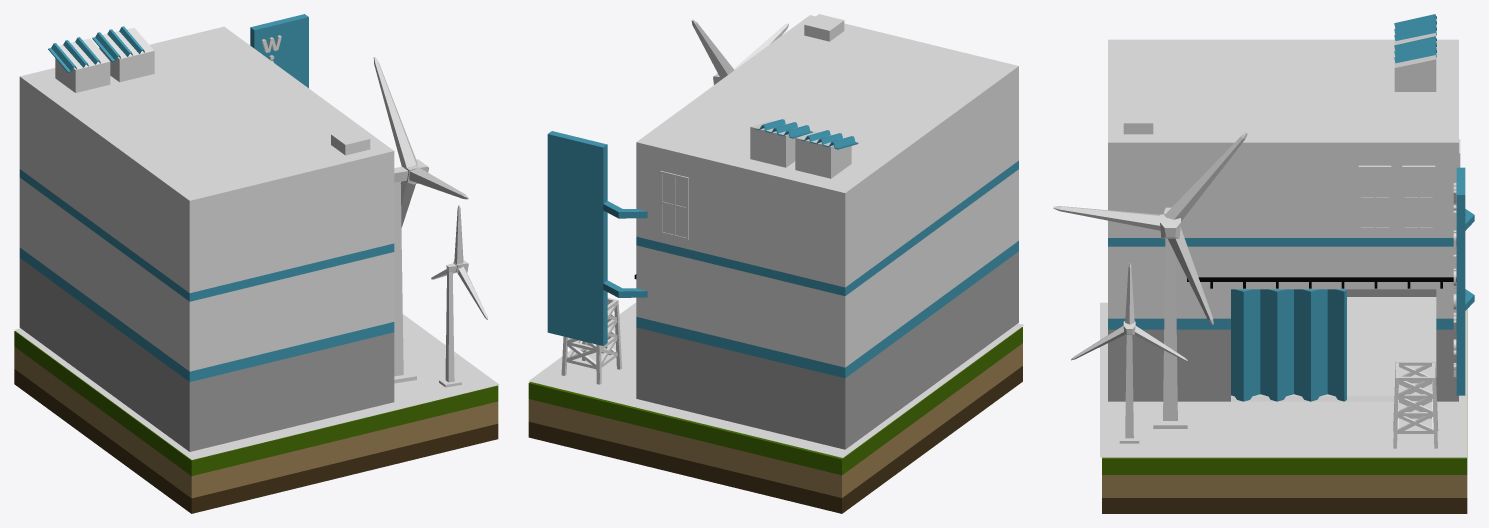
Rendered from WindPlantPrefab.fbx.
3 renders of one model, left to right at view 1: azimuth 30°, elevation 25°; view 2: azimuth 150°, elevation 25°; view 3: azimuth 270°, elevation 25°, orthographic. The views are drawn at different scales.
Parts seen in each view (by area): view 1: wind power, house ground.008, Plane.119, Cube.193, Plane.117, Cube.038, Cube.190, Circle.041, Plane.116, Cube.039, Cube.191, Cube.194 (+1 smaller); view 2: wind power, house ground.008, Cube.193, Plane.119, window asset.047, Cube.038, Cube.190, Cube.187, Cube.194, Circle.041, Cube.188, Cube.039 (+1 smaller); view 3: wind power, house ground.008, Plane.119, Plane.120, Plane.117, Cube.193, window asset.046, window asset.045, Cube.189, Cube.192, Cube.190, Circle.041 (+8 smaller).
Boxes of the visible parts, x1,y1,x2,y2 form: wind power: (19, 26, 394, 451); house ground.008: (14, 331, 498, 513); Plane.119: (14, 314, 499, 459); Cube.193: (250, 14, 308, 88); Plane.117: (394, 159, 428, 383); Cube.038: (55, 38, 110, 92); Cube.190: (99, 27, 154, 82); Circle.041: (373, 57, 417, 168); Plane.116: (439, 260, 468, 387); Cube.039: (48, 37, 100, 72); Cube.191: (92, 26, 144, 61); Cube.194: (331, 128, 370, 155); wind power: (636, 15, 1018, 449); house ground.008: (528, 327, 1022, 513); Cube.193: (547, 131, 647, 345); Plane.119: (528, 302, 1024, 457); window asset.047: (660, 171, 688, 240); Cube.038: (795, 131, 851, 178); Cube.190: (750, 120, 795, 167); Cube.187: (596, 299, 620, 384); Cube.194: (804, 14, 844, 41); Circle.041: (691, 19, 734, 79); Cube.188: (566, 338, 601, 384); Cube.039: (801, 130, 858, 149); wind power: (1108, 39, 1458, 401); house ground.008: (1102, 309, 1467, 513); Plane.119: (1100, 302, 1466, 457); Plane.120: (1231, 289, 1346, 401); Plane.117: (1153, 207, 1187, 428); Cube.193: (1456, 167, 1474, 395); window asset.046: (1402, 165, 1435, 229); window asset.045: (1358, 165, 1391, 229); Cube.189: (1393, 376, 1437, 442); Cube.192: (1187, 277, 1456, 288); Cube.190: (1394, 43, 1436, 91); Circle.041: (1164, 132, 1247, 221).
Bounding box in the file's own units: 209 × 225 × 240.
